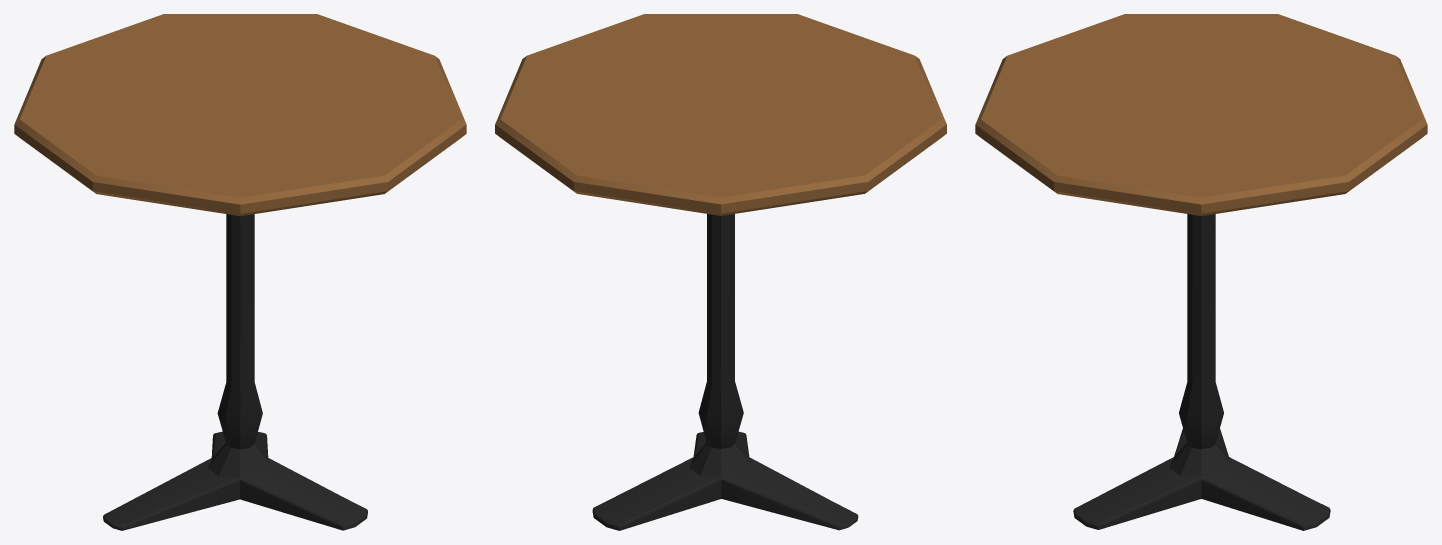
The model's file is bg_table_round.fbx.
3 views of the same model, side by side, from view 1: azimuth 30°, elevation 25°; view 2: azimuth 150°, elevation 25°; view 3: azimuth 270°, elevation 25° (orthographic).
Visible parts, largest first — view 1: CircularTable; view 2: CircularTable; view 3: CircularTable.
Part boxes in pixels (box(x1,y1,x2,y2)): CircularTable: box(14, 14, 466, 530); CircularTable: box(495, 14, 946, 530); CircularTable: box(975, 14, 1427, 530).
Size of the model in its own units: 338 by 326 by 343.
